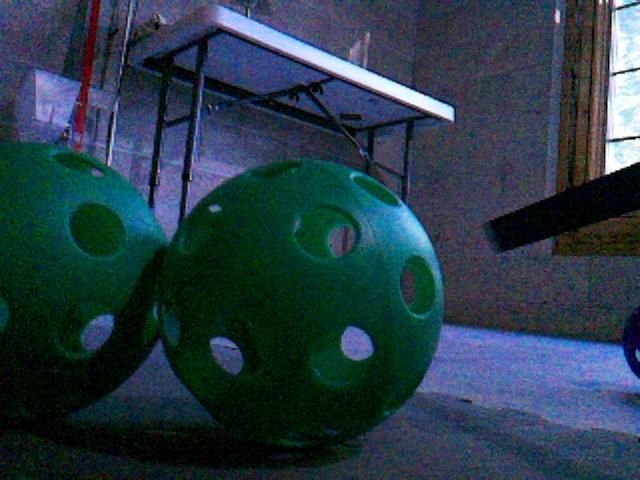Green: (154, 158, 442, 445), (0, 141, 173, 421)
Purple: (623, 303, 640, 381)
